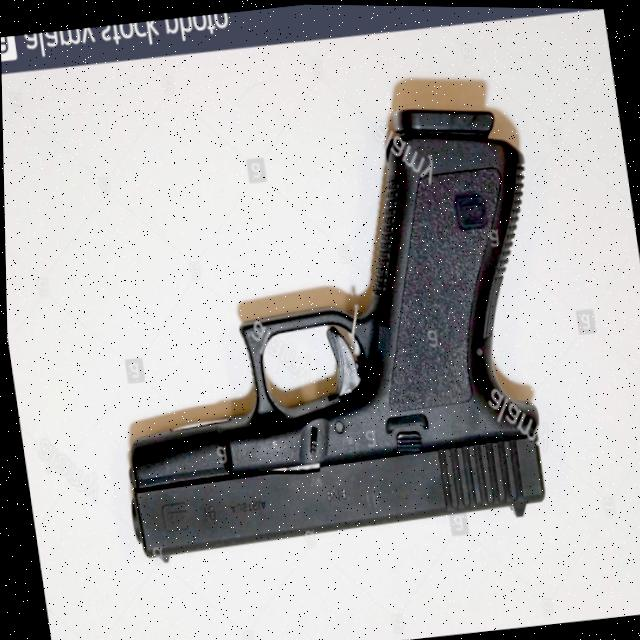pistol: (73, 87, 577, 575)
